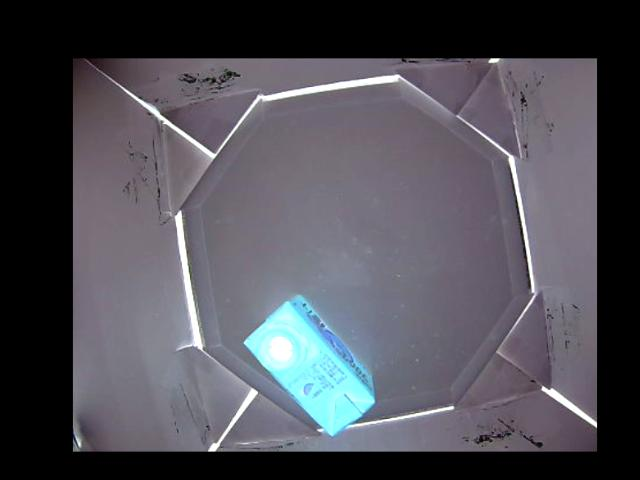Bottle: (244, 293, 375, 436)
